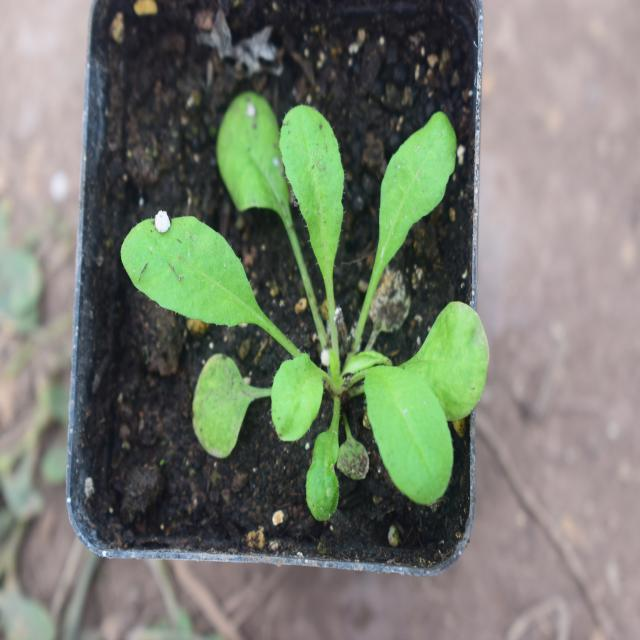Shepherd_Purse: (133, 100, 486, 499)
